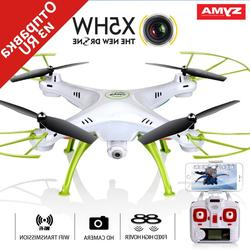drone: (1, 53, 250, 200)
